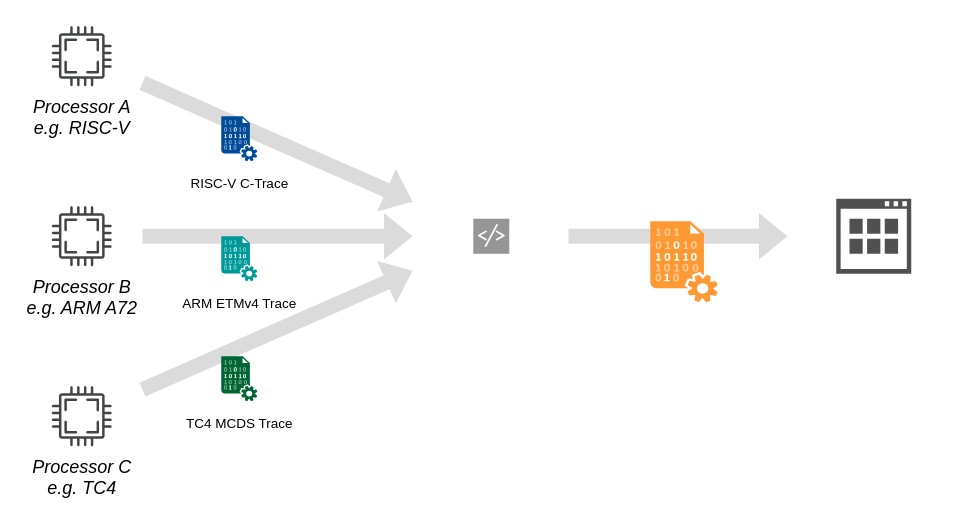
Image size: 959x525. Some labels were removed from this diagram. Here are the shapes that lost their labels. From the top down, the box of each, then its label:
(472, 218, 508, 253): CTXP Exporter tool
(836, 198, 910, 273): Trace Analyzer
(650, 220, 717, 302): .ctxp or .ctxp.txt
